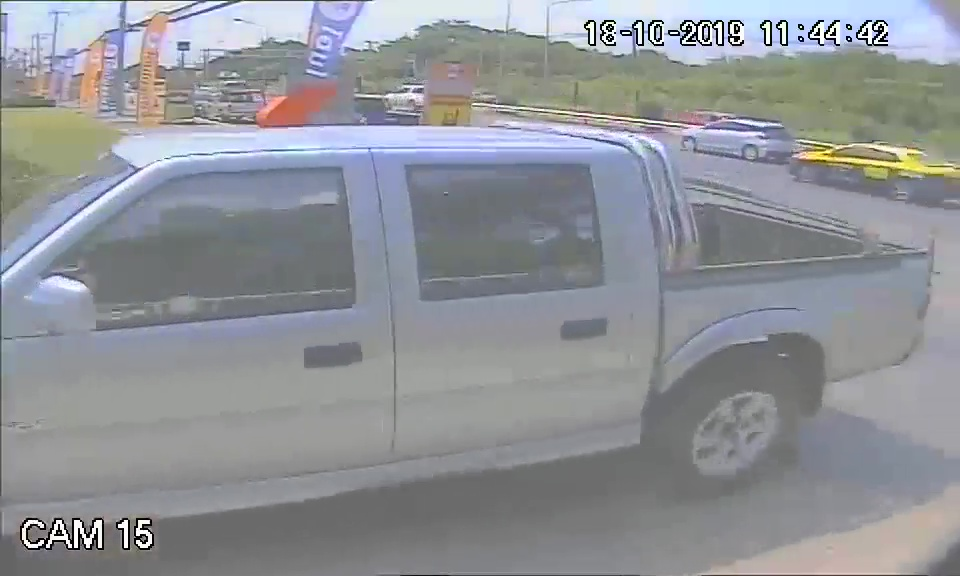pickup: (2, 115, 725, 517)
